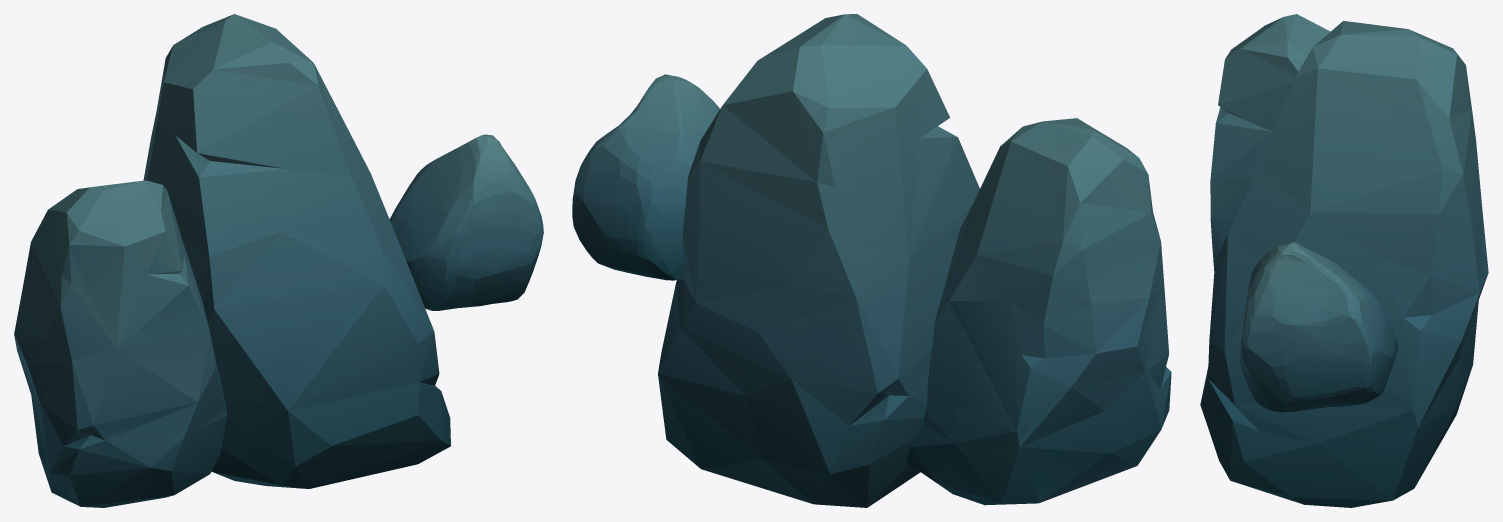
Rendered from Prop2_Rocks_Small_0_1.fbx.
3 renders of one model, left to right at view 1: azimuth 30°, elevation 25°; view 2: azimuth 150°, elevation 25°; view 3: azimuth 270°, elevation 25°, orthographic. The views are drawn at different scales.
Parts seen in each view (by area): view 1: Floating_Rock_1_Big_0_1.006; view 2: Floating_Rock_1_Big_0_1.006; view 3: Floating_Rock_1_Big_0_1.006.
Boxes of the visible parts, x1,y1,x2,y2 form: Floating_Rock_1_Big_0_1.006: (14,14,543,507); Floating_Rock_1_Big_0_1.006: (572,14,1171,507); Floating_Rock_1_Big_0_1.006: (1200,14,1488,507).
Bounding box in the file's own units: 452 × 371 × 232.
